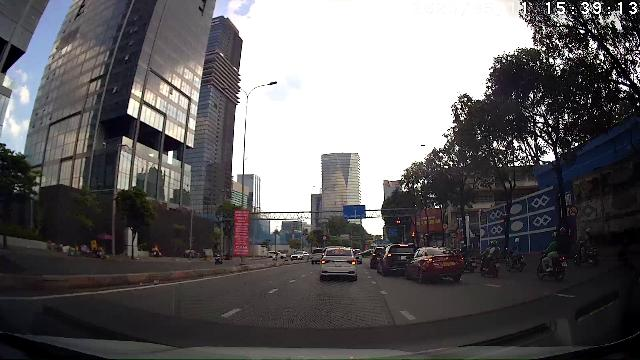103a-cam-oto: (568, 206, 578, 216)
